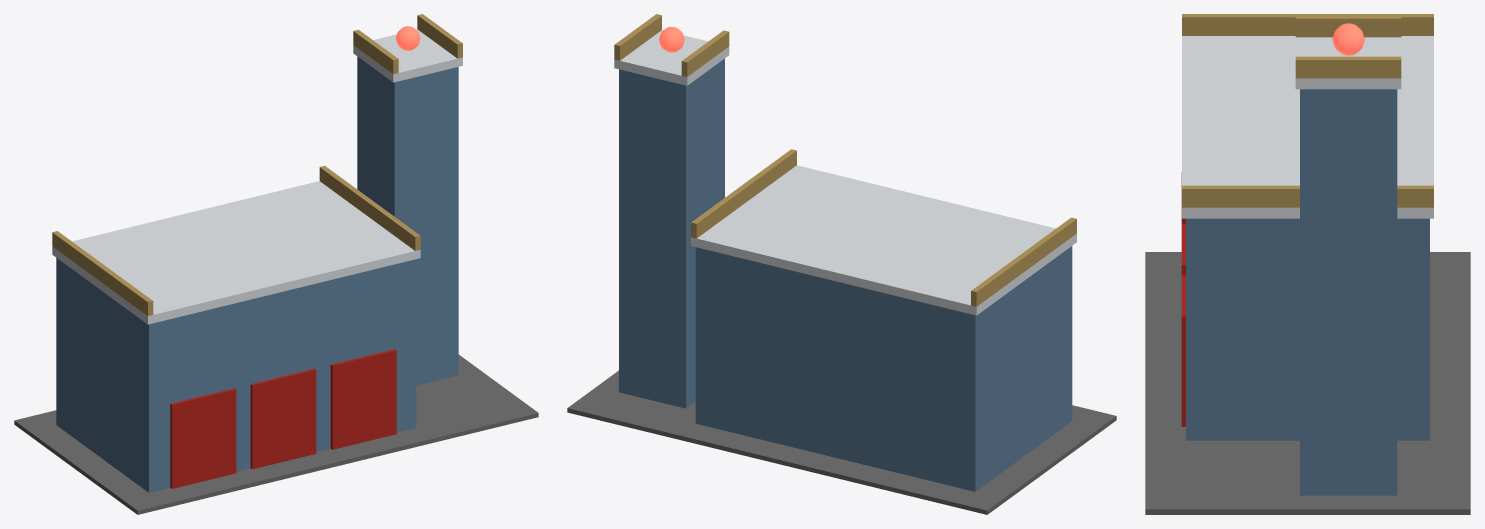
The model's file is bld_special_fire_station_a10.glb.
The picture shows the model from 3 angles, left to right: view 1: azimuth 30°, elevation 25°; view 2: azimuth 150°, elevation 25°; view 3: azimuth 270°, elevation 25°; orthographic projection. The views are drawn at different scales.
Visible parts, largest first — view 1: body; view 2: body; view 3: body.
Boxes of the visible parts, x1,y1,x2,y2 form: body: (14, 14, 538, 514); body: (567, 14, 1116, 514); body: (1145, 14, 1470, 514).
Size of what is drawn, in the model's own units: 15 by 12.38 by 8.
